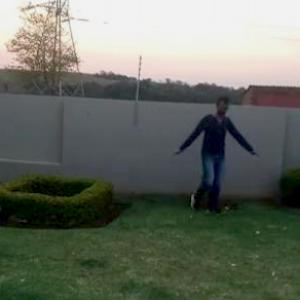land: (174, 108, 254, 220)
